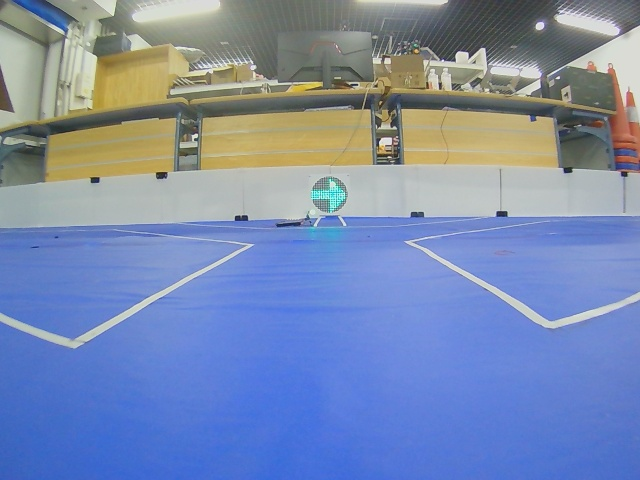right_green: (311, 176, 348, 213)
